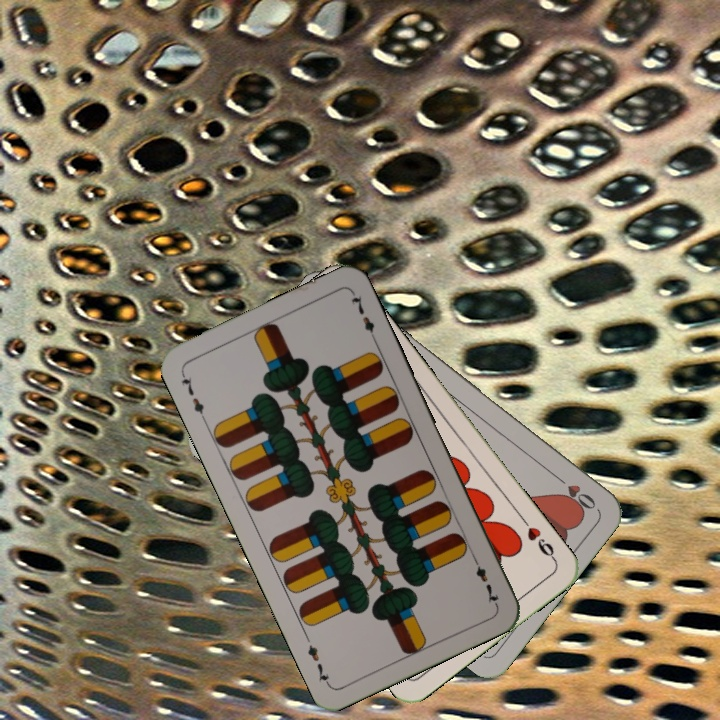E7: (468, 552, 502, 608), (177, 368, 209, 424)
H9: (518, 514, 559, 565)
HO: (549, 470, 599, 513)
